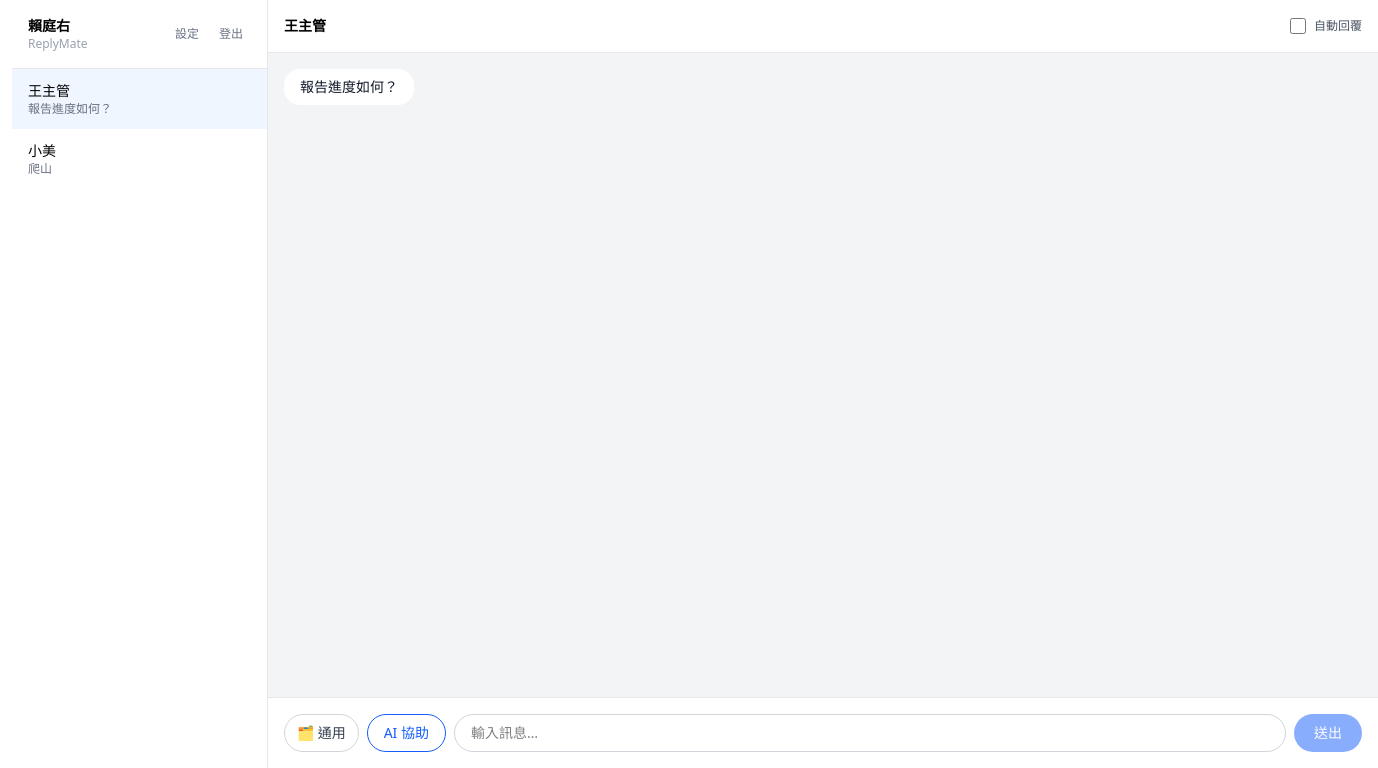
Test case: ChatApp — 初次載入 › 點選側欄另一個對話時載入該對話的訊息
This screenshot has width=1378, height=768.
Expected: the text "報告進度如何？" below "ReplyMate" is shown, [28,100,112,117]
Click the button "小美 爬山": (140, 159) [12,129,267,189]
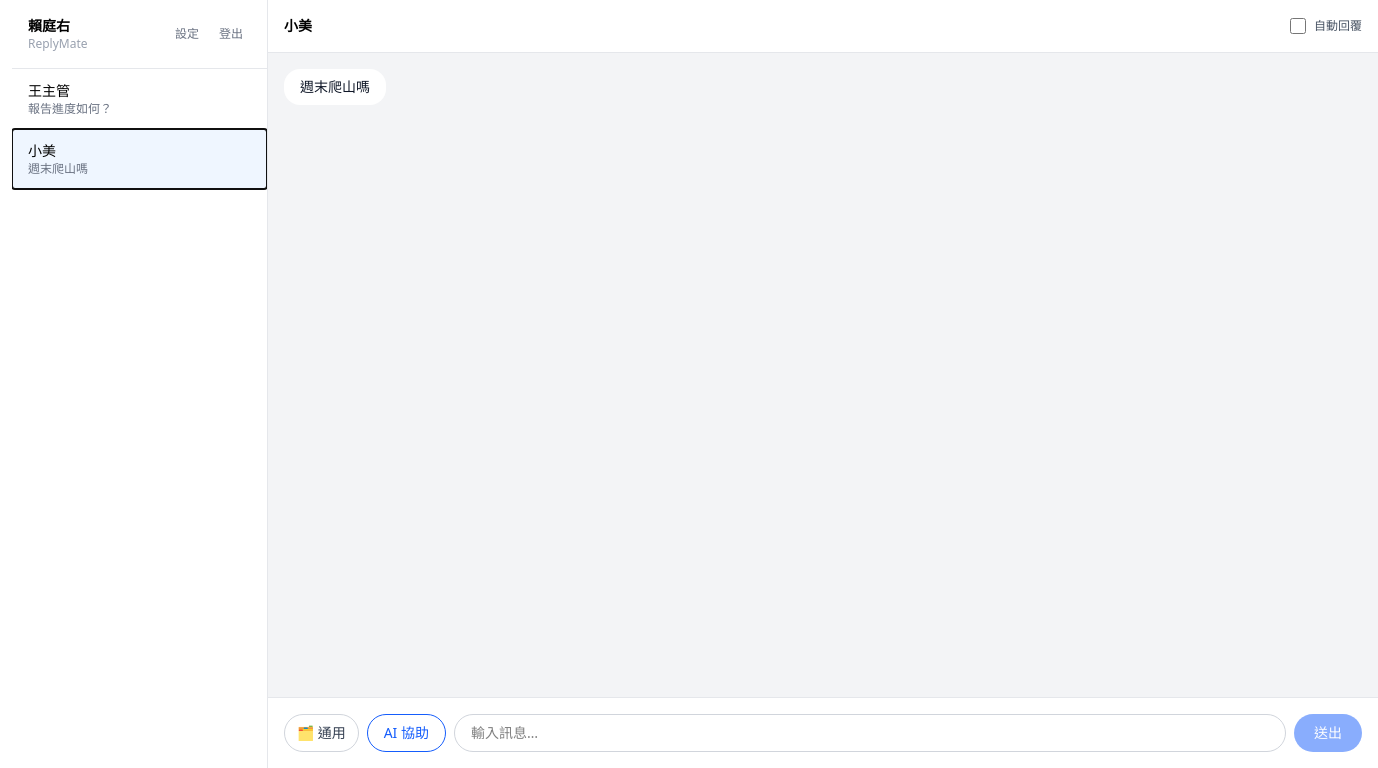
Expected: the 1st text "週末爬山嗎" is shown, [284,69,386,105]
